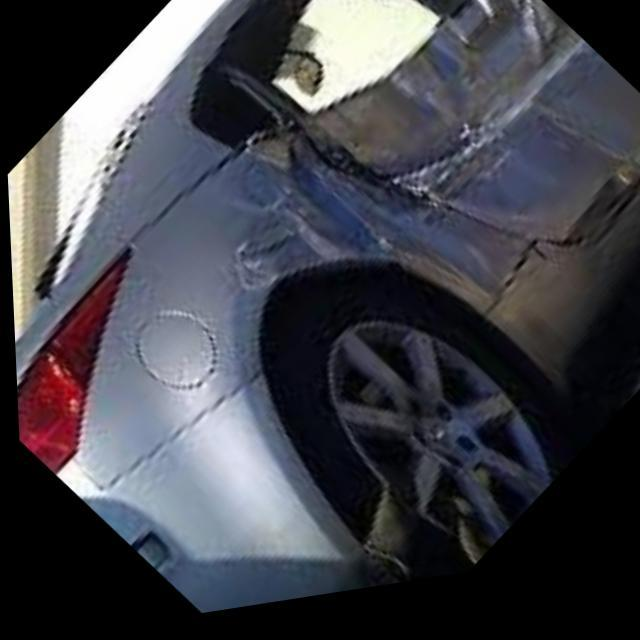dent: (208, 0, 640, 312)
